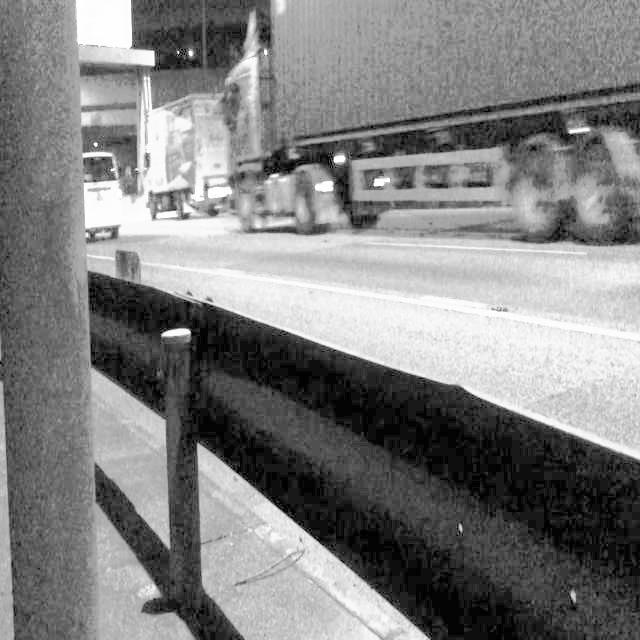Truck: (222, 0, 639, 242), (141, 86, 231, 220)
